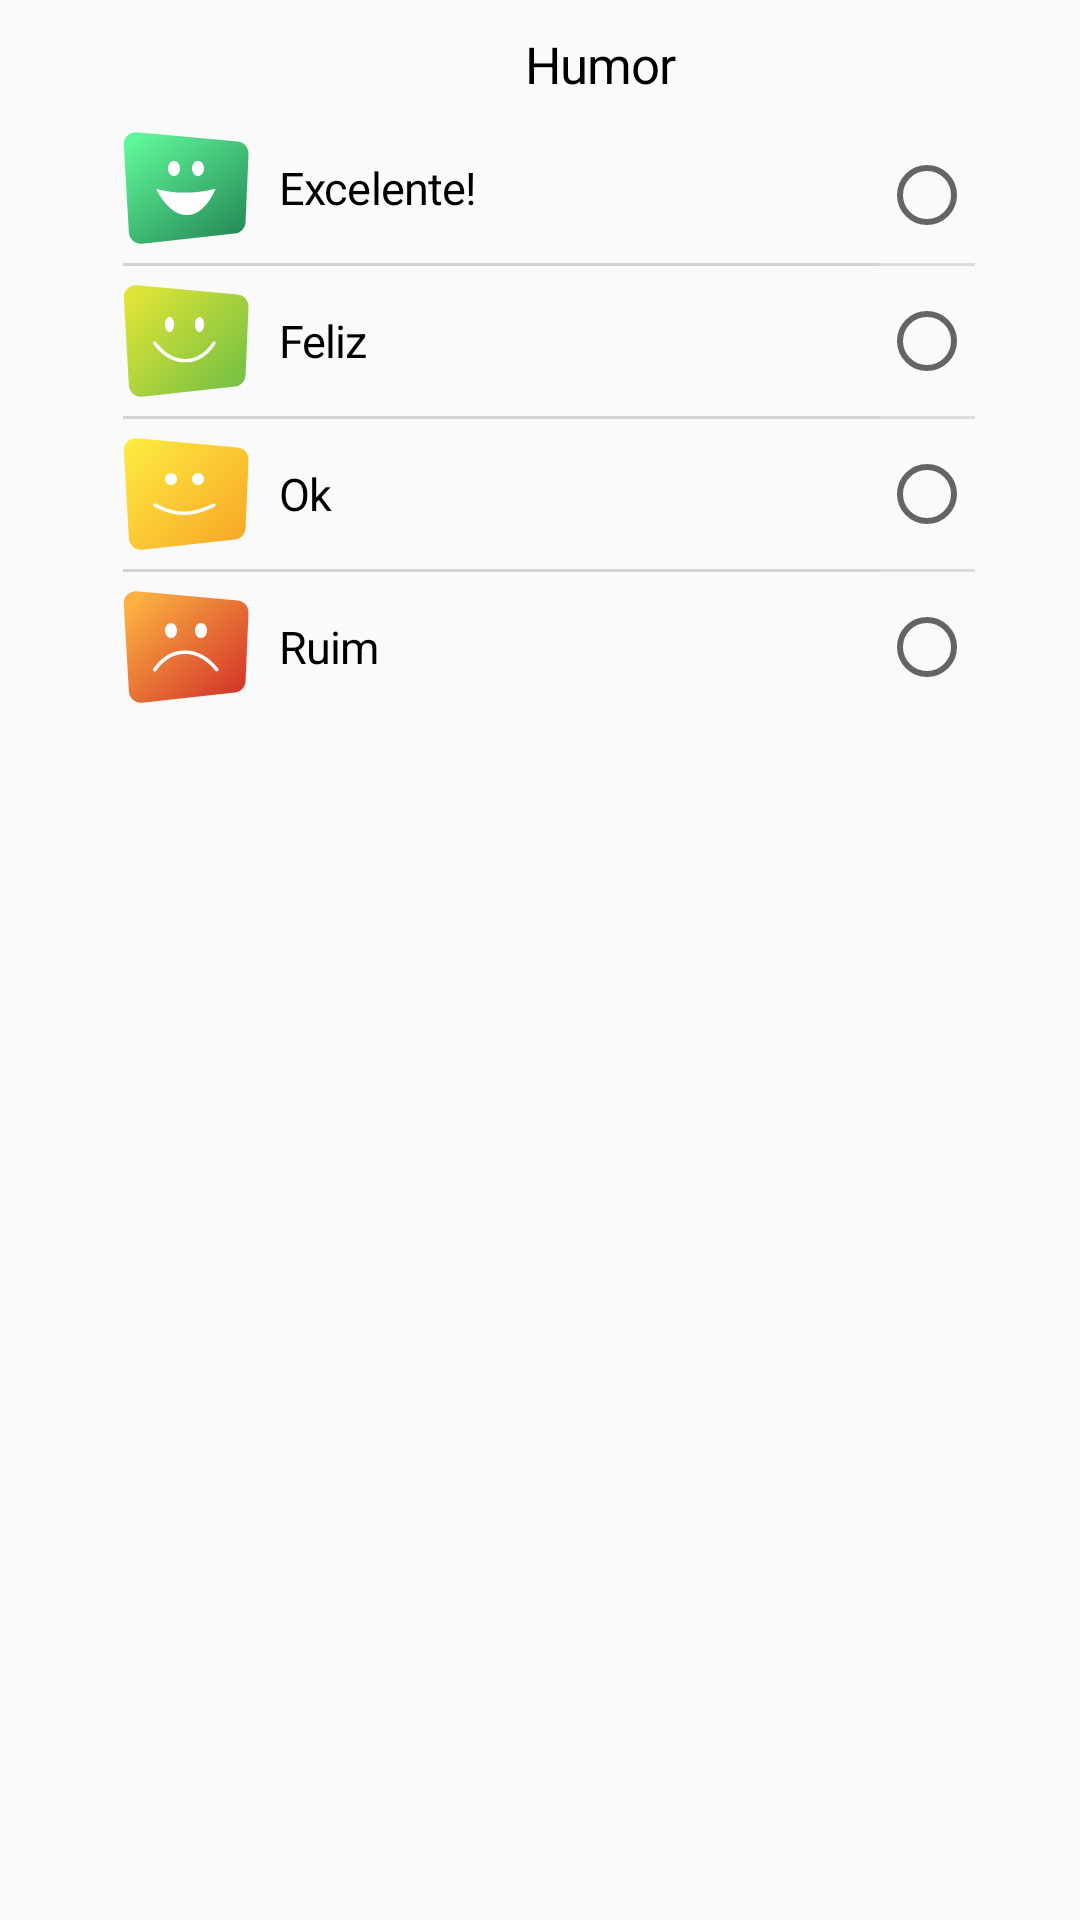

Icon bounding boxes for this 1080×1920 phone screenshot, format (x1, y1, x2, y2):
humor bad: (123, 591, 249, 703)
humor exc: (123, 132, 249, 244)
humor happy: (123, 285, 249, 397)
humor ok: (123, 438, 249, 550)
